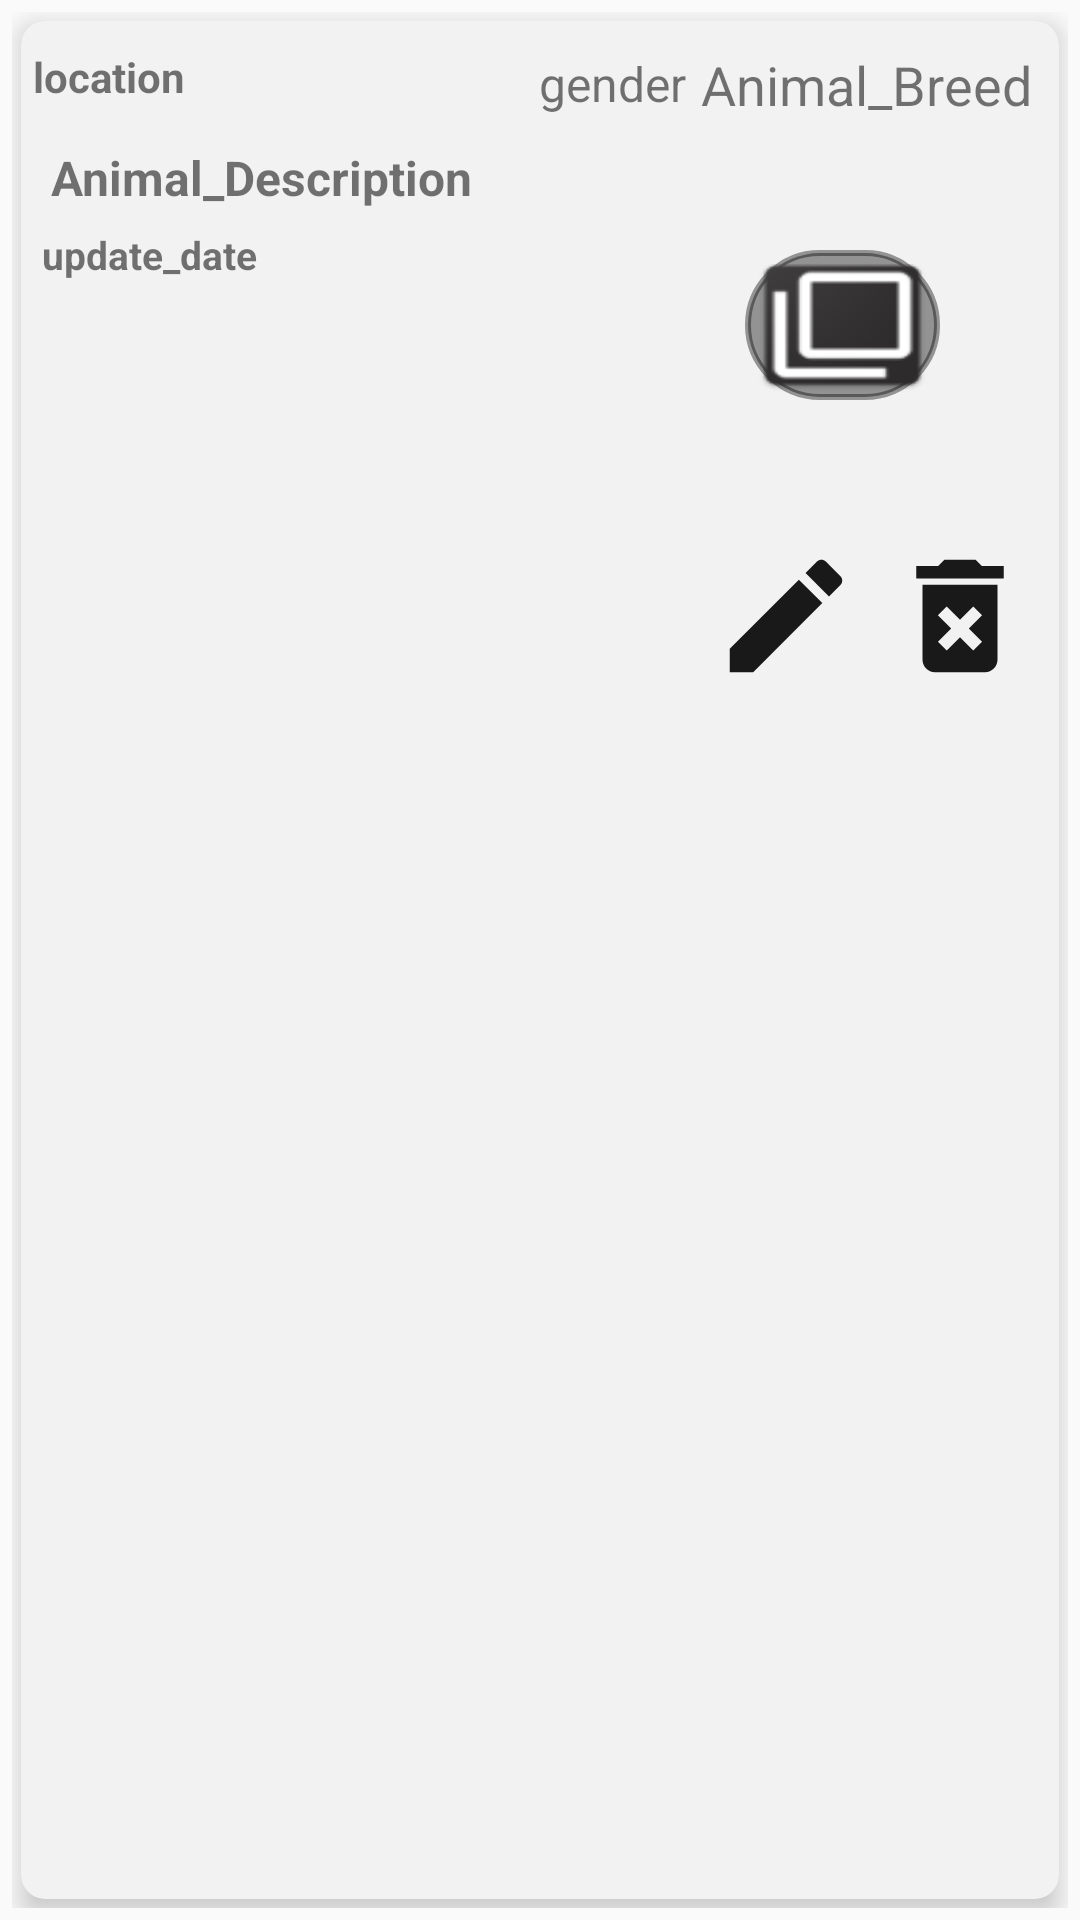

Screen size 1080*1920. Icon name, then its center in pixels as (x=x, y=y):
collection: (x=842, y=325)
delete forever: (x=960, y=616)
edit: (x=786, y=616)
